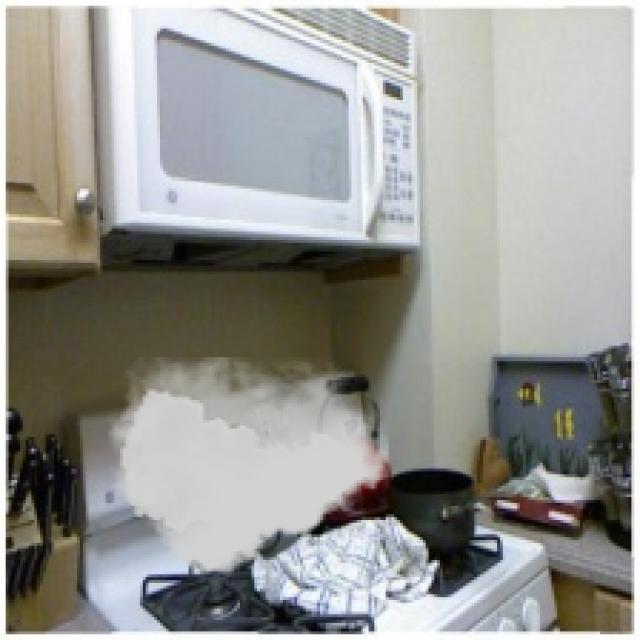Smoke: (109, 357, 388, 574)
